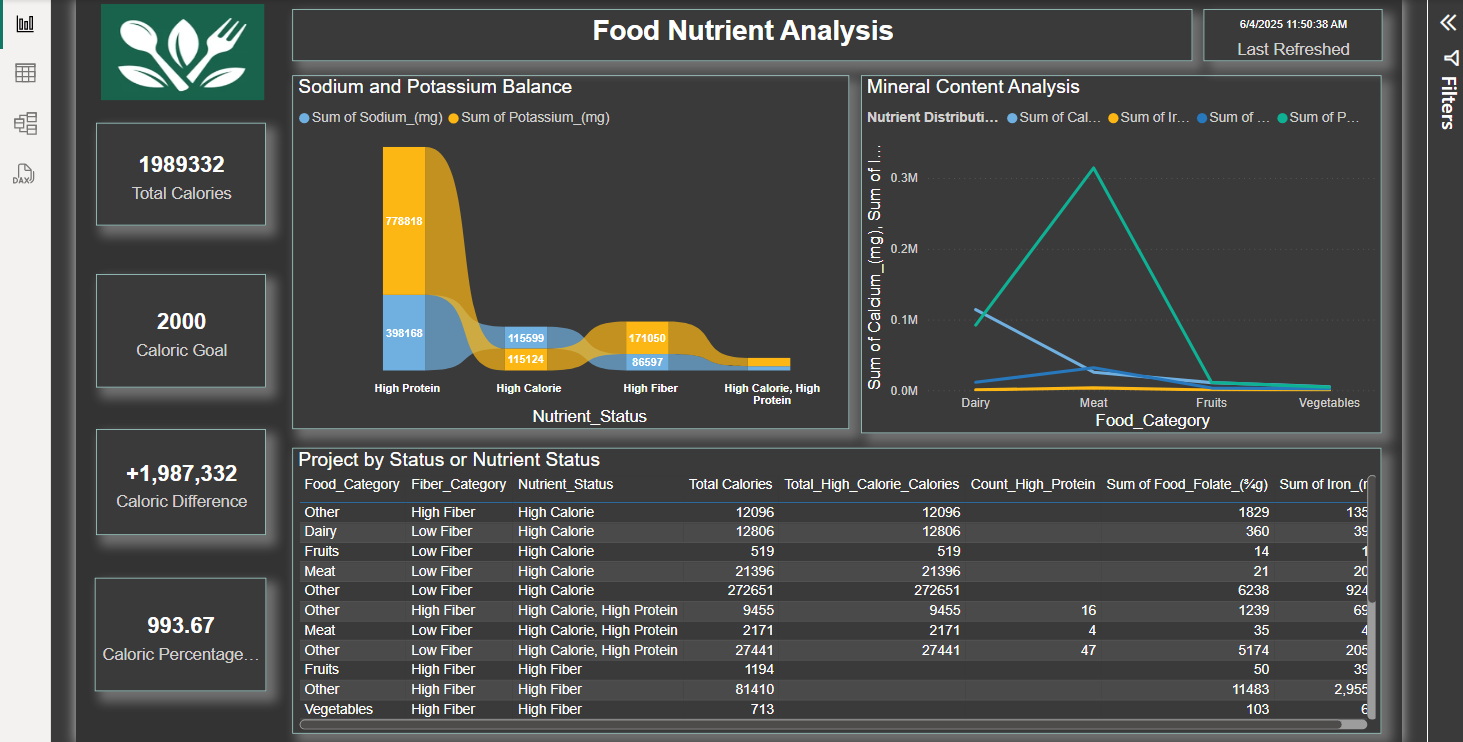

This screenshot's page, from the dashboard's own definition file:
{"tool":"powerbi","page":{"name":"Food Analysis","canvas":[1280,720],"ordinal":1},"visuals":[{"type":"ribbonChart","title":"Sodium and Potassium Balance","fields":{"Category":["Nutritions_US.Nutrient_Status"],"Y":["Sum(Nutritions_US.Sodium_(mg))","Sum(Nutritions_US.Potassium_(mg))"]},"box":[208.6,74.1,537.9,341.7],"z":0},{"type":"textbox","title":"Food Nutrient Profile Dashboard","box":[208.6,9.6,868.6,50.8],"z":1000},{"type":"lineChart","title":"Mineral Content Analysis","fields":{"Category":["Nutritions_US.Food_Category"],"Y":["Sum(Nutritions_US.Calcium_(mg))","Sum(Nutritions_US.Iron_(mg))","Sum(Nutritions_US.Magnesium_(mg))","Sum(Nutritions_US.Phosphorus_(mg))"]},"box":[757.5,74.1,502.2,345.8],"z":2000},{"type":"tableEx","title":"Project by Status or Nutrient Status","fields":{"Values":["Nutritions_US.Food_Category","Nutritions_US.Fiber_Category","Nutritions_US.Nutrient_Status","Nutritions_US.Total Calories","Nutritions_US.Total_High_Calorie_Calories","Nutritions_US.Count_High_Protein","Sum(Nutritions_US.Food_Folate_(¾g))","Sum(Nutritions_US.Iron_(mg))"]},"box":[208.6,433.6,1051.1,275.8],"z":3000},{"type":"card","fields":{"Values":["Nutritions_US.Last Refreshed"]},"box":[1087.8,9.6,172.5,50.7],"z":4000},{"type":"card","fields":{"Values":["Nutritions_US.Caloric Goal"]},"box":[19.3,265.4,164.1,109.8],"z":5000},{"type":"card","fields":{"Values":["Nutritions_US.Caloric Difference"]},"box":[19.3,415,164.1,102.5],"z":6000},{"type":"image","box":[19.3,0,167.7,102.5],"z":7000},{"type":"card","fields":{"Values":["Nutritions_US.Total Calories"]},"box":[19.3,119.4,164.1,98.9],"z":8000},{"type":"card","fields":{"Values":["Nutritions_US.Caloric Percentage Difference"]},"box":[18.1,558.6,165.3,109.8],"z":9000}]}

Visuals, with their boxes on the page's 1280x720 design canvas (x1, y1, x2, y2). These are canvas units, not pixel positions in the 1463x742 screenshot, which may show the page scaled, cropped or inside an application window:
"Sodium and Potassium Balance" ribbonChart: bbox=(209, 74, 746, 416)
"Food Nutrient Profile Dashboard" textbox: bbox=(209, 10, 1077, 60)
"Mineral Content Analysis" lineChart: bbox=(758, 74, 1260, 420)
"Project by Status or Nutrient Status" tableEx: bbox=(209, 434, 1260, 709)
card - Nutritions_US.Last Refreshed: bbox=(1088, 10, 1260, 60)
card - Nutritions_US.Caloric Goal: bbox=(19, 265, 183, 375)
card - Nutritions_US.Caloric Difference: bbox=(19, 415, 183, 518)
image: bbox=(19, 0, 187, 102)
card - Nutritions_US.Total Calories: bbox=(19, 119, 183, 218)
card - Nutritions_US.Caloric Percentage Difference: bbox=(18, 559, 183, 668)
